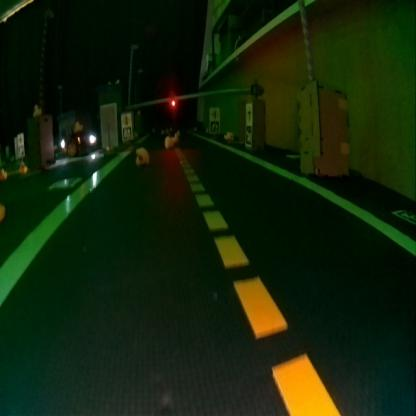Duckie: (136, 146, 147, 164), (19, 161, 27, 172), (164, 135, 171, 147), (32, 105, 40, 114), (74, 121, 82, 130)
Duckiebot: (60, 132, 96, 156)
Intersection sign: (246, 105, 252, 122), (210, 108, 218, 119)
QR code: (49, 177, 76, 188), (244, 125, 251, 145), (122, 126, 132, 138), (209, 120, 218, 132)
Signal sign: (122, 114, 130, 125)
Traffic light: (170, 98, 176, 107)
